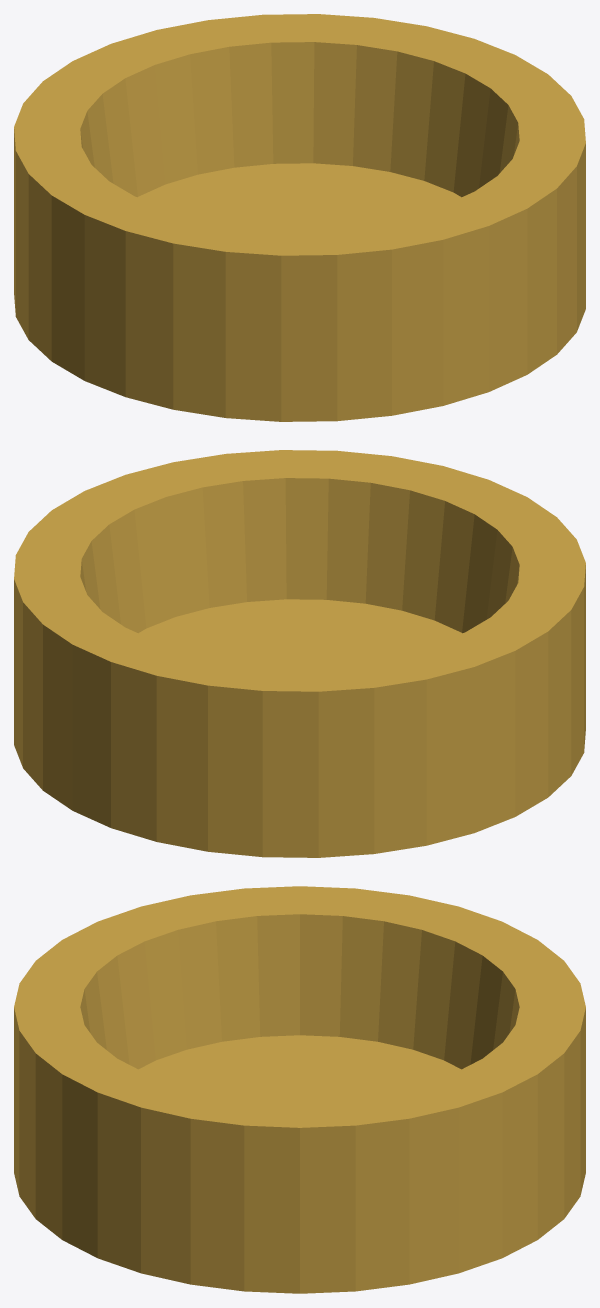
The model's file is ring.fbx.
The picture shows the model from 3 angles, top to bottom: view 1: azimuth 30°, elevation 25°; view 2: azimuth 150°, elevation 25°; view 3: azimuth 270°, elevation 25°; orthographic projection.
Visible parts, largest first — view 1: Cylinder; view 2: Cylinder; view 3: Cylinder.
Part boxes in pixels (x1,y1,x2,y2): Cylinder: (14,14,585,421); Cylinder: (14,450,585,857); Cylinder: (14,886,585,1293).
Size of the model in its own units: 567 by 181 by 567.
